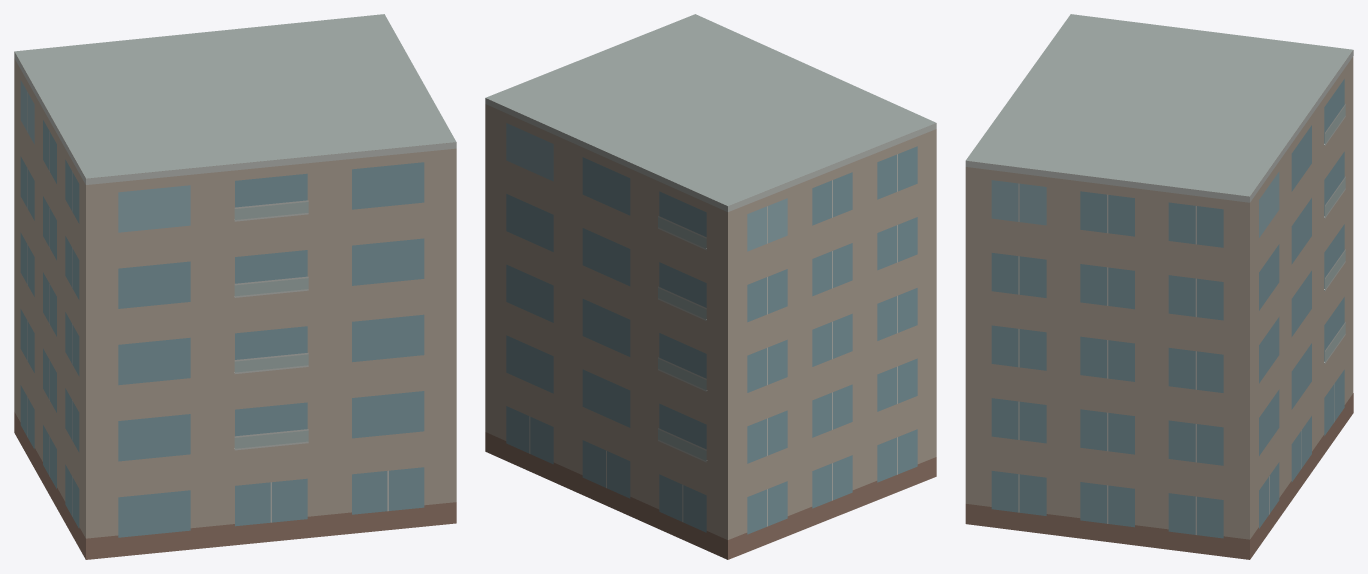
File: survey-upis-32877550.glb
3 renders of one model, left to right at view 1: azimuth 30°, elevation 25°; view 2: azimuth 150°, elevation 25°; view 3: azimuth 270°, elevation 25°, orthographic. The views are drawn at different scales.
Parts seen in each view (by area): view 1: survey-upis-32877550.tmp; view 2: survey-upis-32877550.tmp; view 3: survey-upis-32877550.tmp.
Part boxes in pixels (x1,y1,x2,y2): survey-upis-32877550.tmp: (14,14,456,559); survey-upis-32877550.tmp: (485,14,936,559); survey-upis-32877550.tmp: (965,14,1353,559).
Size of the model in its own units: 15.42 by 14.3 by 13.85.
